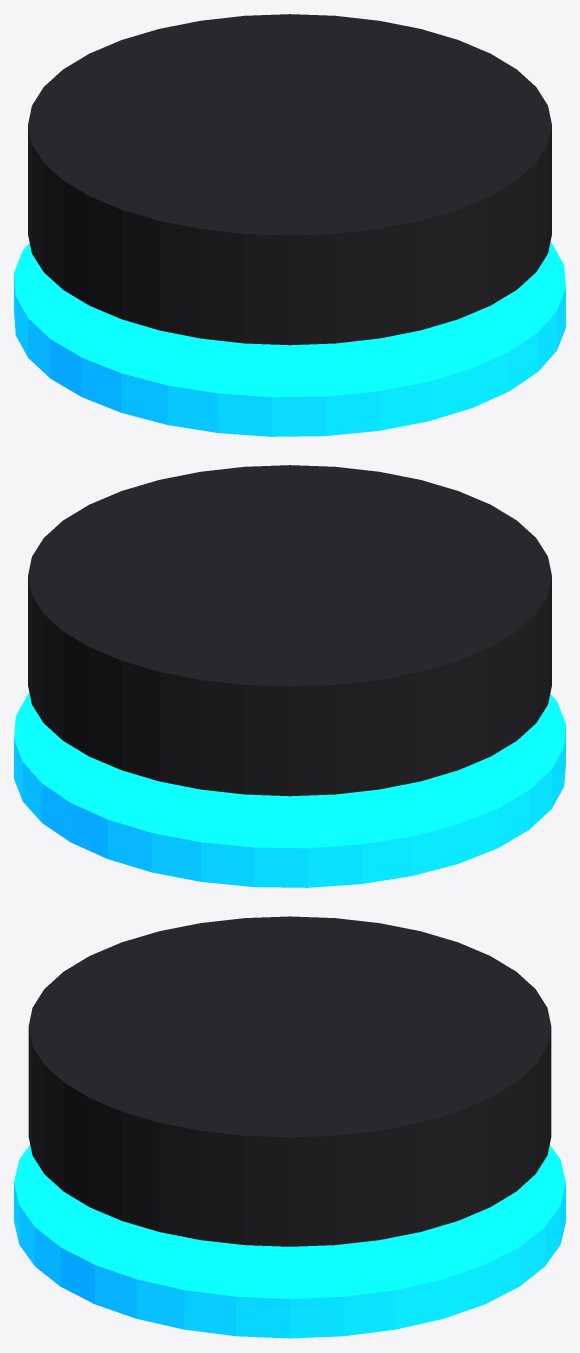
File: sports_hockey_puck.glb
The picture shows the model from 3 angles, top to bottom: view 1: azimuth 30°, elevation 25°; view 2: azimuth 150°, elevation 25°; view 3: azimuth 270°, elevation 25°; orthographic projection.
Visible parts, largest first — view 1: 04_11_Popular_Sports_Hockey_Puck_part_01, 04_11_Popular_Sports_Hockey_Puck_ROOT_base; view 2: 04_11_Popular_Sports_Hockey_Puck_part_01, 04_11_Popular_Sports_Hockey_Puck_ROOT_base; view 3: 04_11_Popular_Sports_Hockey_Puck_part_01, 04_11_Popular_Sports_Hockey_Puck_ROOT_base.
Boxes of the visible parts, left/top/right/bottom form: 04_11_Popular_Sports_Hockey_Puck_part_01: left=28, top=14, right=551, bottom=345; 04_11_Popular_Sports_Hockey_Puck_ROOT_base: left=14, top=242, right=565, bottom=436; 04_11_Popular_Sports_Hockey_Puck_part_01: left=28, top=465, right=551, bottom=796; 04_11_Popular_Sports_Hockey_Puck_ROOT_base: left=14, top=693, right=565, bottom=887; 04_11_Popular_Sports_Hockey_Puck_part_01: left=28, top=916, right=551, bottom=1246; 04_11_Popular_Sports_Hockey_Puck_ROOT_base: left=14, top=1145, right=565, bottom=1338.
Size of the model in its own units: 0.76 by 0.2962 by 0.76.
